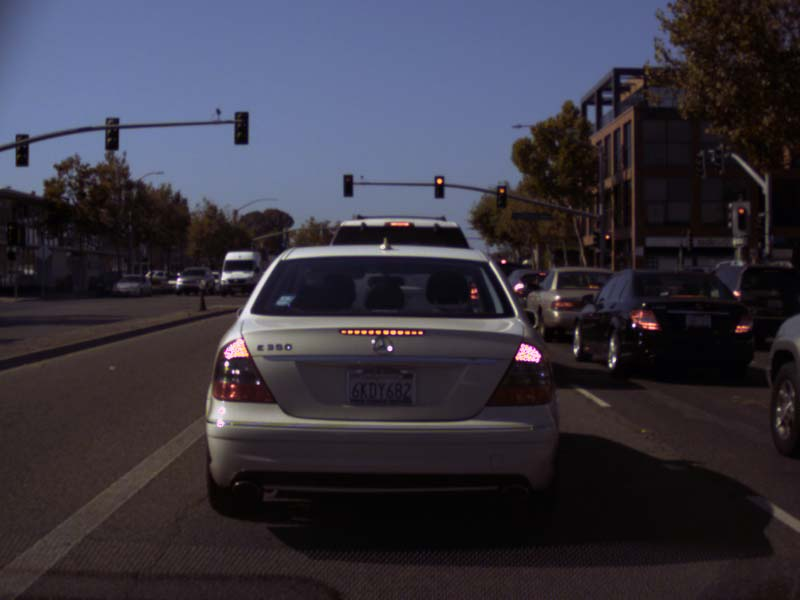Red: (434, 175, 444, 198), (7, 222, 17, 244), (344, 174, 352, 196), (737, 207, 745, 228), (497, 186, 505, 206), (603, 232, 611, 248)
